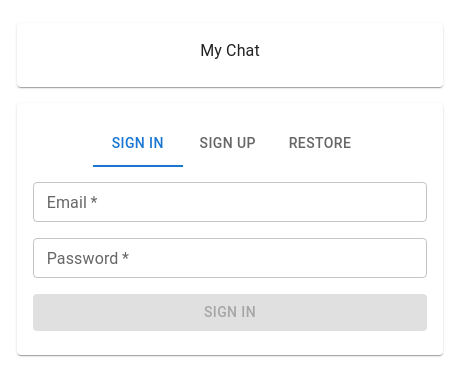
SignInForm › Invalid email
Type "test" into the field with test id "email-input" at (230, 202), box [33,182,427,222]
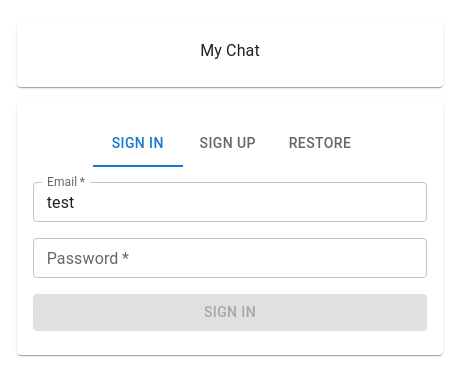
Leave the field with test id "email-input", box [33,182,427,222]
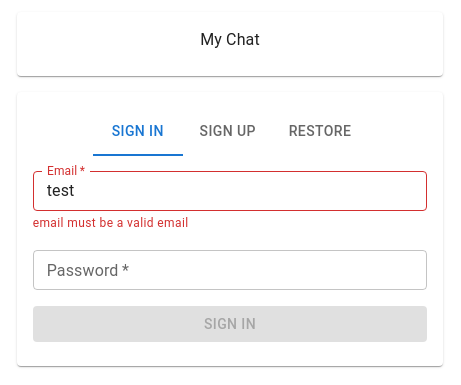
Expected: the button with test id "submit-btn" is disabled, [33,306,427,342]
Result: the text "email must be a valid email" is shown at [33,216,189,230]
